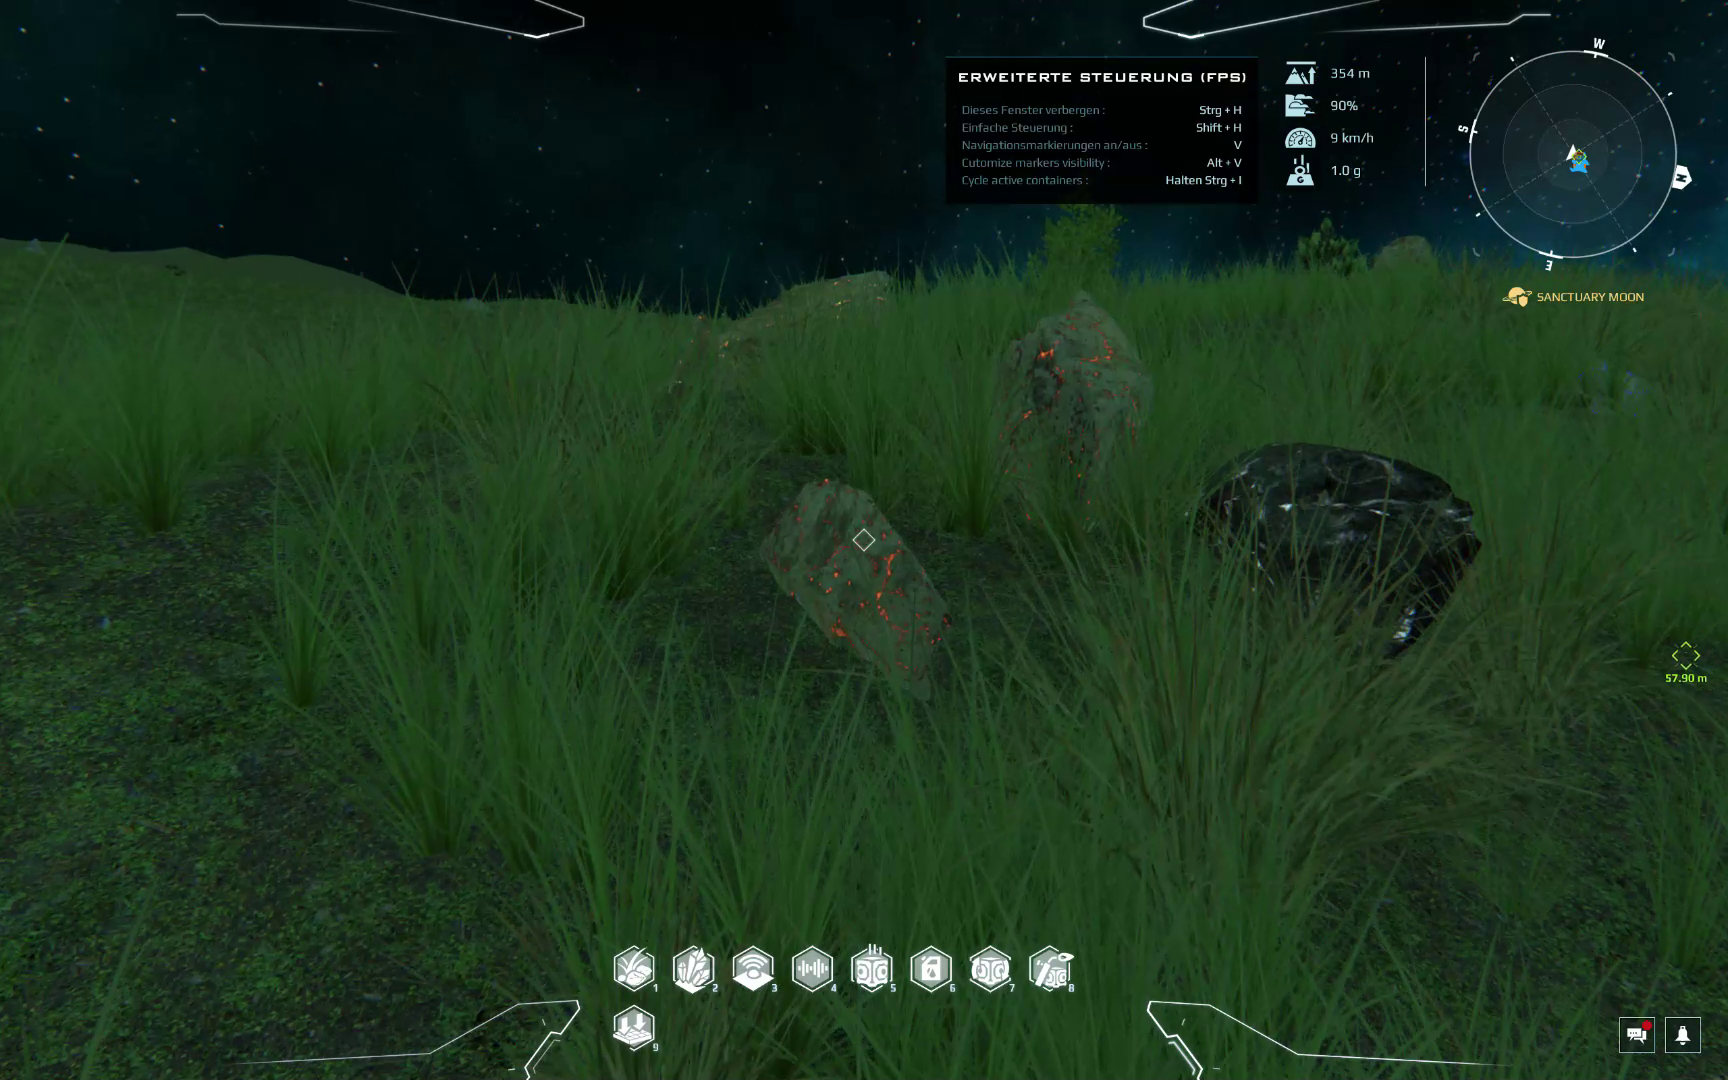Ore: (1186, 439, 1483, 673), (758, 479, 948, 717), (993, 301, 1157, 533), (732, 270, 898, 370), (662, 309, 713, 408)
